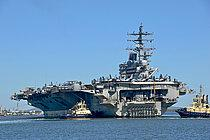MIL_Ship: (10, 21, 182, 118)
